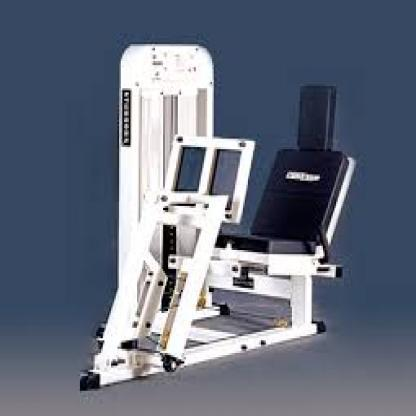leg press: (78, 34, 356, 396)
